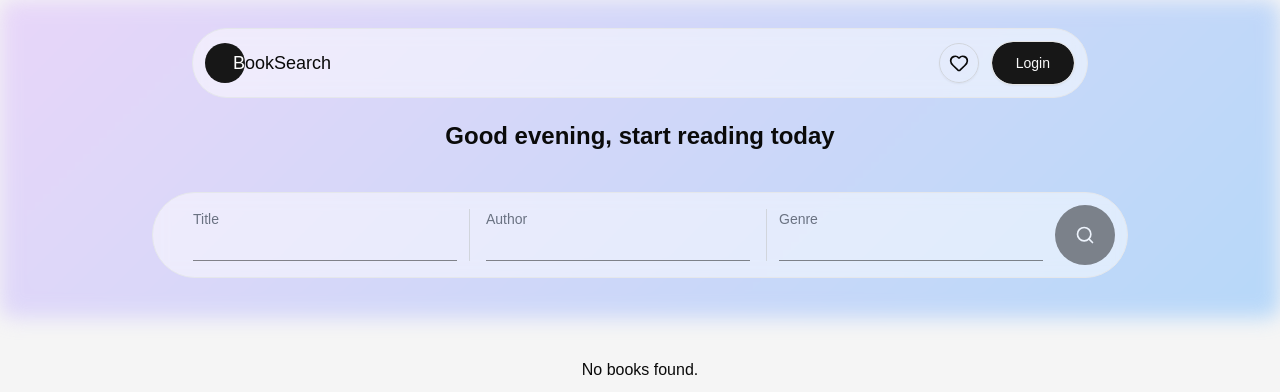
Routing › navigates to favorites page
Click the link named "favorites": click(959, 63) top-left (939, 43), bottom-right (979, 83)
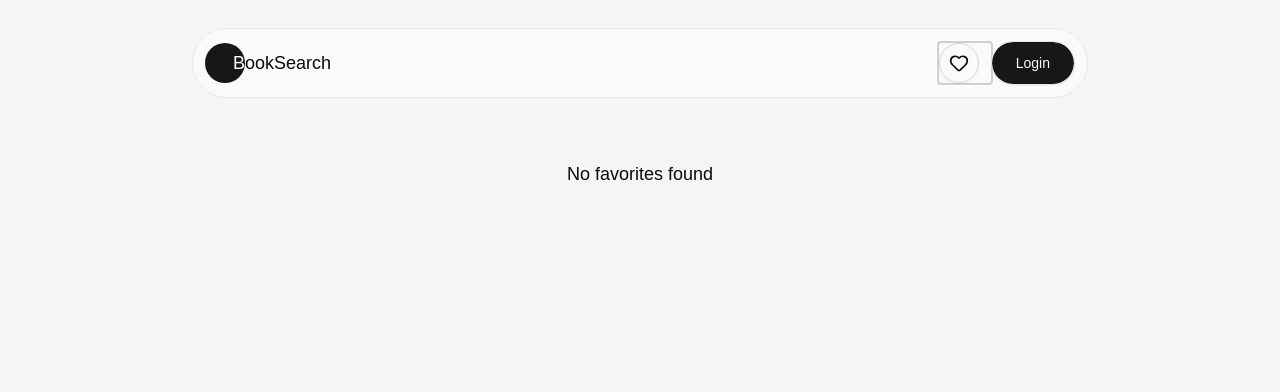
Check: the text "No favorites found" is shown, box top-left (567, 160), bottom-right (713, 188)
